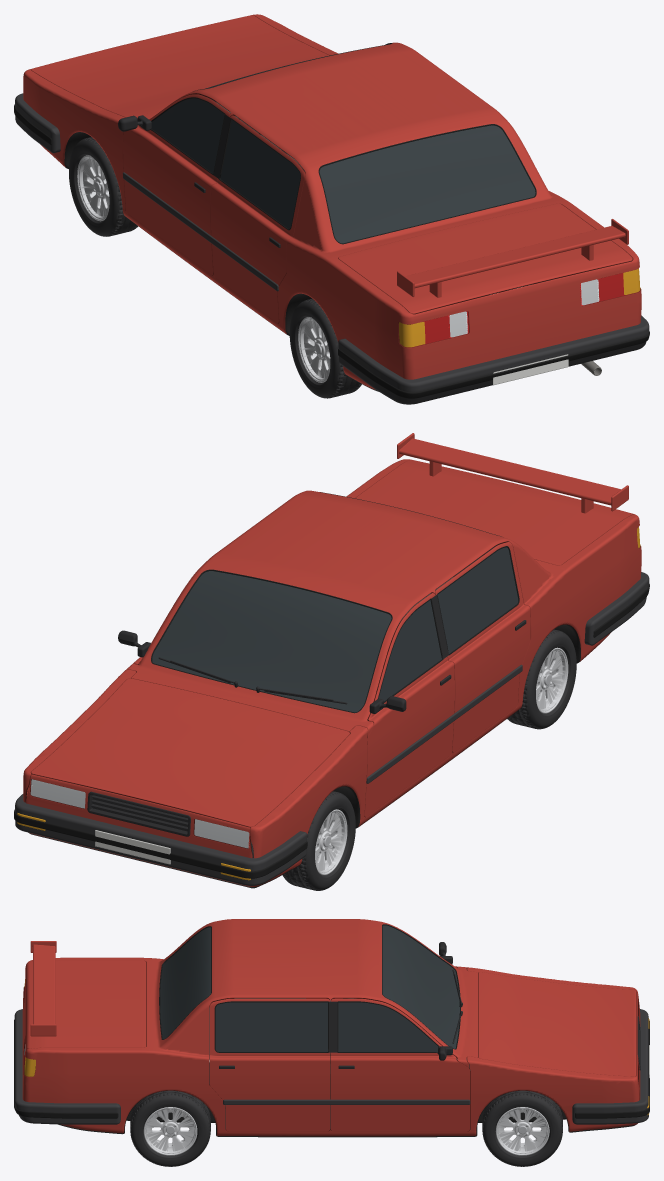
File: ryujin.glb
The picture shows the model from 3 angles, top to bottom: view 1: azimuth 30°, elevation 25°; view 2: azimuth 150°, elevation 25°; view 3: azimuth 270°, elevation 25°; orthographic projection. The views are drawn at different scales.
Parts seen in each view (by area): view 1: Body, Trunk, Glass_Rear, Hood, Door_FL, Door_RL, Bumper_R, Glass_RL, Fender_FL, Glass_FL, Wheel_RL_Tyre, Wheel_FL_Tyre (+9 smaller); view 2: Body, Hood, Glass_Front, Trunk, Door_FL, Door_RL, Bumper_F, Fender_FL, Glass_RL, Glass_FL, Wheel_FL_Tyre, Wheel_RL_Tyre (+10 smaller); view 3: Body, Hood, Trunk, Door_FR, Door_RR, Fender_FR, Glass_Front, Glass_RR, Glass_FR, Glass_Rear, Wheel_RR_Tyre, Wheel_FR_Tyre (+8 smaller).
Part boxes in pixels (x1=…): Body: x1=45, y1=42, x2=641, y2=391; Trunk: x1=338, y1=203, x2=632, y2=314; Glass_Rear: x1=318, y1=124, x2=536, y2=244; Hood: x1=31, y1=15, x2=329, y2=117; Door_FL: x1=123, y1=94, x2=230, y2=274; Door_RL: x1=211, y1=115, x2=305, y2=323; Bumper_R: x1=338, y1=315, x2=649, y2=404; Glass_RL: x1=219, y1=118, x2=300, y2=230; Fender_FL: x1=23, y1=69, x2=125, y2=209; Glass_FL: x1=150, y1=97, x2=225, y2=175; Wheel_RL_Tyre: x1=289, y1=298, x2=361, y2=398; Wheel_FL_Tyre: x1=69, y1=137, x2=138, y2=236; Body: x1=25, y1=459, x2=641, y2=888; Hood: x1=31, y1=678, x2=349, y2=827; Glass_Front: x1=151, y1=569, x2=392, y2=713; Trunk: x1=355, y1=433, x2=632, y2=565; Door_FL: x1=364, y1=593, x2=454, y2=816; Door_RL: x1=435, y1=542, x2=530, y2=752; Bumper_F: x1=15, y1=794, x2=307, y2=885; Fender_FL: x1=250, y1=725, x2=367, y2=886; Glass_RL: x1=437, y1=546, x2=519, y2=655; Glass_FL: x1=378, y1=598, x2=443, y2=702; Wheel_FL_Tyre: x1=282, y1=791, x2=355, y2=890; Wheel_RL_Tyre: x1=507, y1=629, x2=576, y2=729; Body: x1=22, y1=919, x2=640, y2=1137; Hood: x1=478, y1=972, x2=635, y2=1076; Trunk: x1=27, y1=941, x2=146, y2=1048; Door_FR: x1=330, y1=998, x2=470, y2=1131; Door_RR: x1=209, y1=998, x2=330, y2=1131; Fender_FR: x1=467, y1=1056, x2=638, y2=1130; Glass_Front: x1=382, y1=924, x2=460, y2=1049; Glass_RR: x1=214, y1=1001, x2=328, y2=1052; Glass_FR: x1=337, y1=1001, x2=439, y2=1053; Glass_Rear: x1=159, y1=926, x2=211, y2=1039; Wheel_RR_Tyre: x1=130, y1=1090, x2=210, y2=1166; Wheel_FR_Tyre: x1=482, y1=1090, x2=562, y2=1166.
Bounding box in the file's own units: 1.96 × 1.38 × 4.73.
